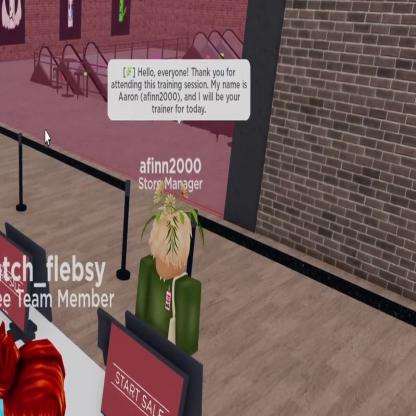Roblox-Avatar: (137, 180, 206, 356), (1, 321, 68, 416)
